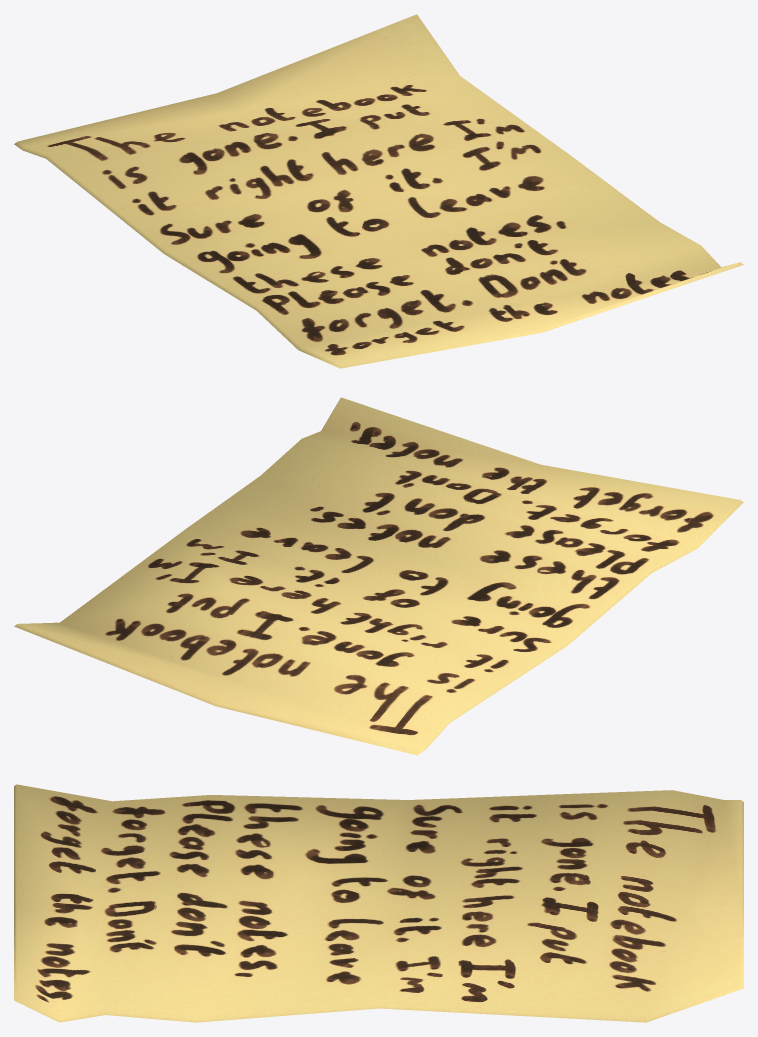
File: NoteMesh3.fbx
The picture shows the model from 3 angles, top to bottom: view 1: azimuth 30°, elevation 25°; view 2: azimuth 150°, elevation 25°; view 3: azimuth 270°, elevation 25°; orthographic projection. The views are drawn at different scales.
Visible parts, largest first — view 1: NoteMesh3; view 2: NoteMesh3; view 3: NoteMesh3.
Boxes of the visible parts, x1,y1,x2,y2 form: NoteMesh3: (14,14,743,368); NoteMesh3: (14,397,743,755); NoteMesh3: (14,784,743,1022).
Size of the model in its own units: 21.71 by 1.69 by 30.39.
